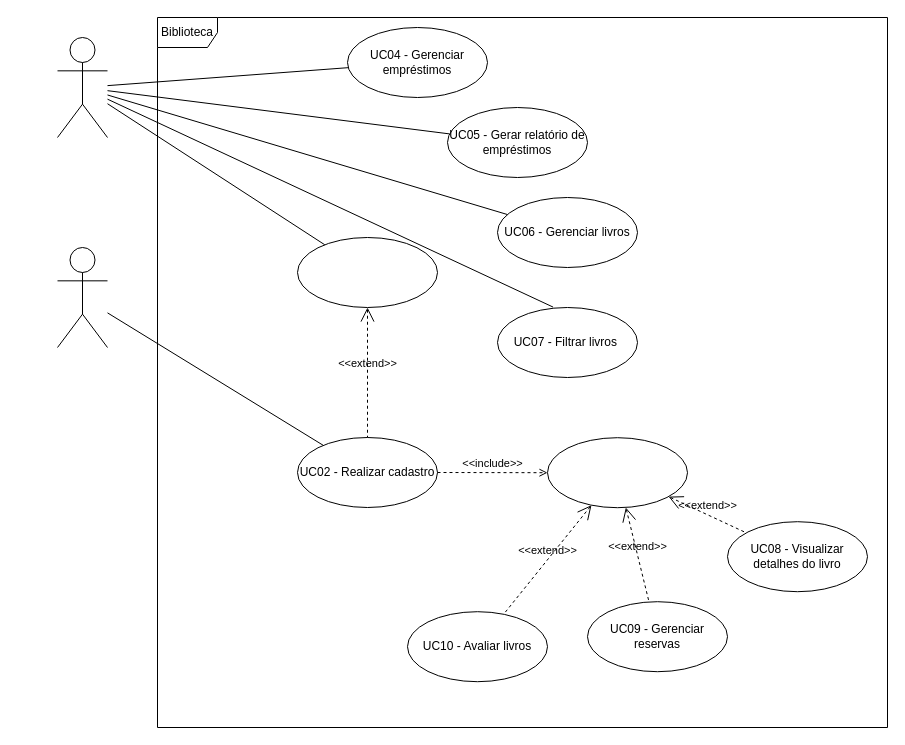
The diagram is 905 pixels wide and 745 high, and some of its shapes have lost their labels. The centre of each missing label's shape, as x and y in pixels:
Bibliotecário/Funcionário: point (82, 87)
UC01 - Realizar login: point (367, 272)
UC03 - Visualizar catálogo de livros: point (617, 472)
Usuário: point (82, 297)
